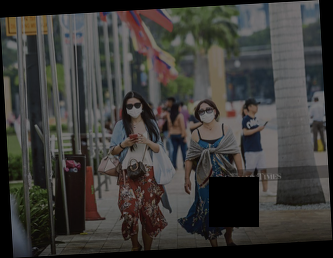with_mask: (125, 102, 143, 119), (198, 107, 215, 123)
without_mask: (249, 103, 259, 115)
